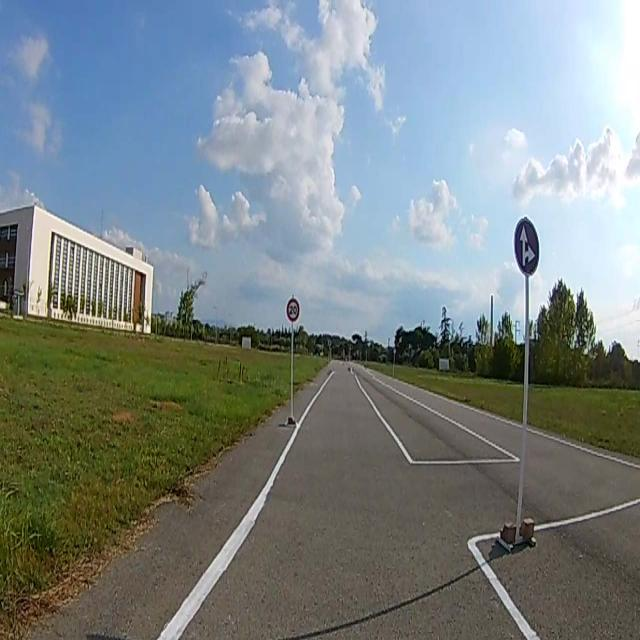20: (286, 298, 300, 321)
ilerisag: (514, 219, 540, 278)
